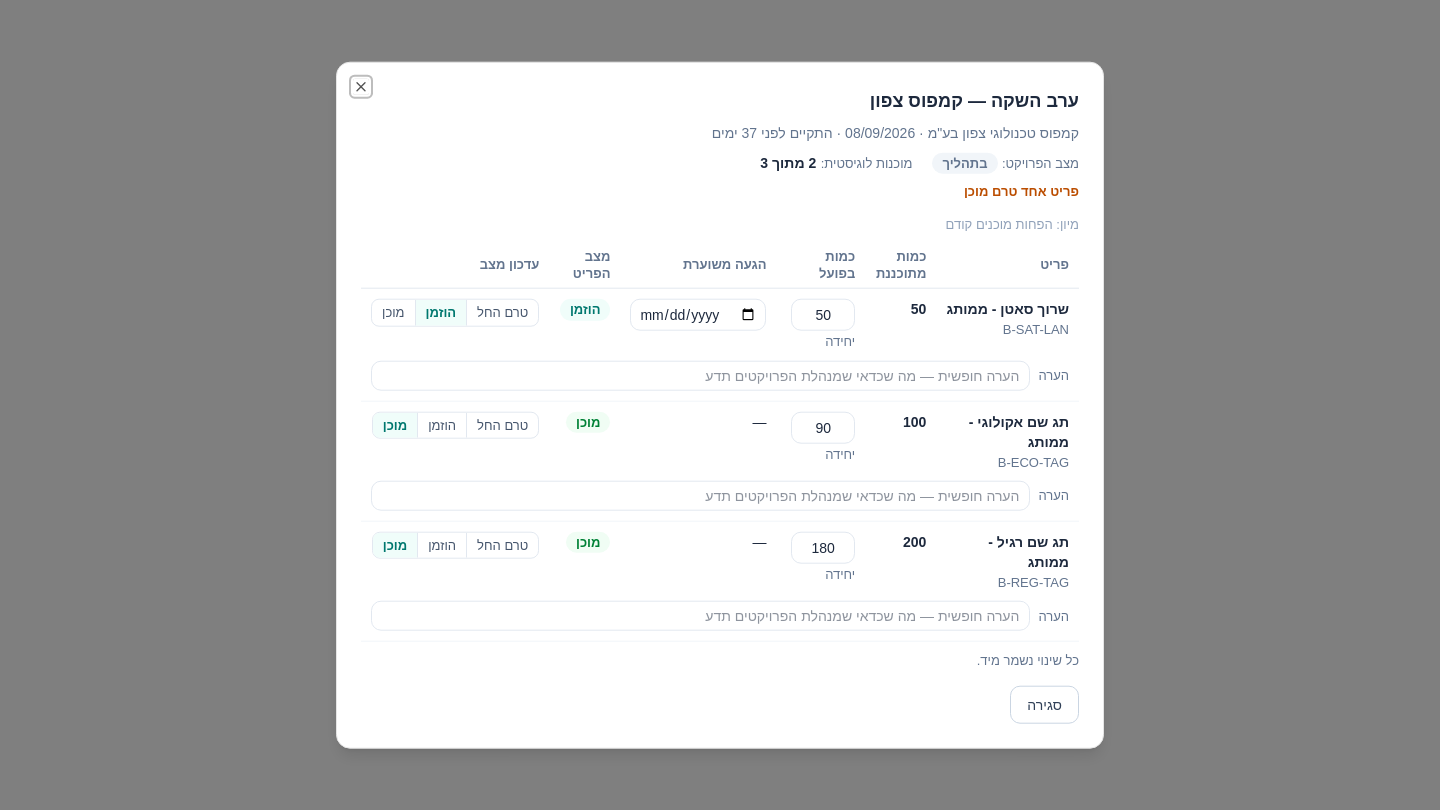
Test: ChecklistDialog — ⑬ באנר ההשלמה › חוסר בכמה פריטים — מונה-פריטים במקום שם
Expected: the row with test id "checklist-row-B-SAT-LAN-1" is shown, x1=361 y1=288 x2=1079 y2=360
Click the button with test id "checklist-status-B-SAT-LAN-1-ready".
click(393, 313)  # box x1=372 y1=300 x2=414 y2=325
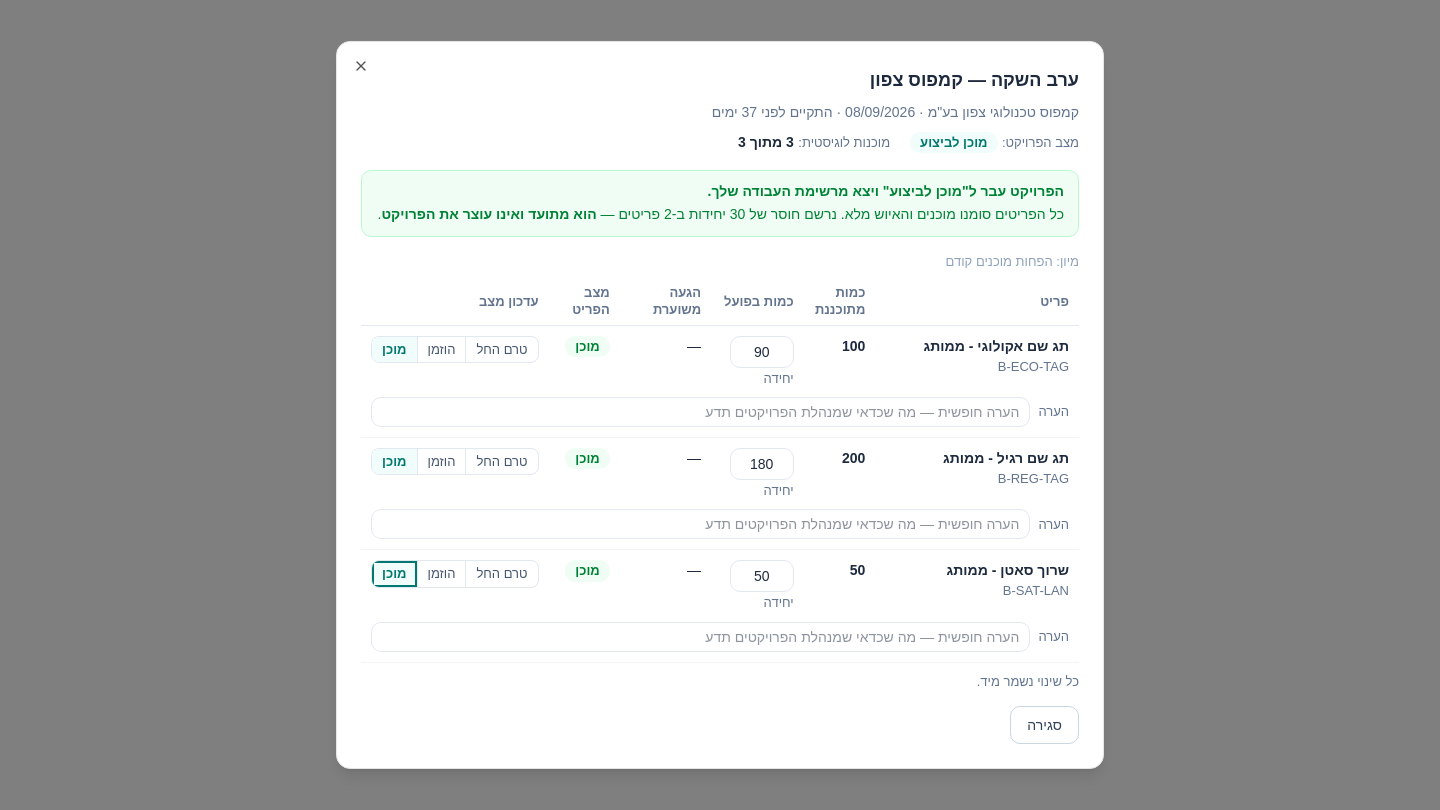
Result: the message with test id "checklist-banner-complete" is shown at x1=361 y1=170 x2=1079 y2=237
Result: the element with test id "checklist-shortfall" reads "נרשם חוסר של 30 יחידות ב- 2 פריטים — הוא מתועד ואינו עוצר את הפרויקט." at x1=378 y1=206 x2=837 y2=222
